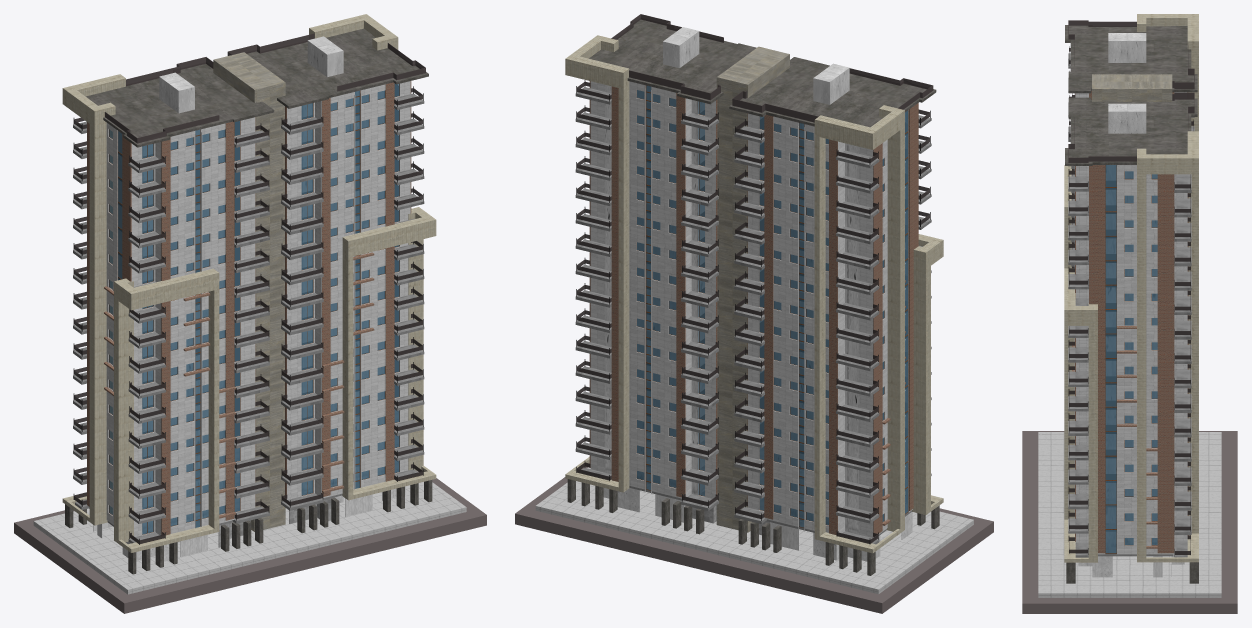
Rendered from building.glb.
3 views of the same model, side by side, from view 1: azimuth 30°, elevation 25°; view 2: azimuth 150°, elevation 25°; view 3: azimuth 270°, elevation 25° (orthographic). The views are drawn at different scales.
Parts seen in each view (by area): view 1: Line016_Material #14_0.002, Box588, Box605, Box334, Line016, Line016_Material #14_0.001, Line212, Line206, Line213, Line216, Line207, Box1228 (+10 smaller); view 2: Line016_Material #14_0.002, Box588, Line016, Line016_Material #14_0.001, Box334, Line207, Line216, Line206, Line213, Box605, Box1228, Line215 (+9 smaller); view 3: Line016_Material #14_0.002, Box605, Box588, Line213, Box334, Line016, Line212, Line207, Line206, Box620, Line215, Box1230 (+5 smaller).
Part boxes in pixels (left/top/right/bottom): Line016_Material #14_0.002: left=14, top=20, right=486, bottom=603; Box588: left=62, top=14, right=436, bottom=552; Box605: left=87, top=81, right=411, bottom=535; Box334: left=109, top=84, right=398, bottom=534; Line016: left=106, top=152, right=408, bottom=535; Line016_Material #14_0.001: left=106, top=81, right=410, bottom=536; Line212: left=73, top=93, right=424, bottom=543; Line206: left=74, top=88, right=422, bottom=543; Line213: left=86, top=52, right=428, bottom=147; Line216: left=119, top=91, right=383, bottom=531; Line207: left=73, top=121, right=417, bottom=542; Box1228: left=213, top=60, right=285, bottom=531; Line016_Material #14_0.002: left=515, top=14, right=993, bottom=613; Box588: left=565, top=35, right=943, bottom=551; Line016: left=590, top=186, right=908, bottom=533; Line016_Material #14_0.001: left=590, top=81, right=908, bottom=537; Box334: left=637, top=86, right=907, bottom=527; Line207: left=575, top=87, right=905, bottom=543; Line216: left=605, top=85, right=858, bottom=534; Line206: left=576, top=82, right=929, bottom=543; Line213: left=619, top=19, right=936, bottom=127; Box605: left=589, top=81, right=918, bottom=533; Box1228: left=716, top=46, right=789, bottom=532; Line215: left=611, top=14, right=932, bottom=122; Line016_Material #14_0.002: left=1022, top=18, right=1237, bottom=613; Box605: left=1075, top=92, right=1188, bottom=553; Box588: left=1064, top=14, right=1198, bottom=562; Line213: left=1065, top=25, right=1197, bottom=165; Box334: left=1106, top=165, right=1157, bottom=552; Line016: left=1076, top=216, right=1187, bottom=554; Line212: left=1068, top=53, right=1191, bottom=557; Line207: left=1071, top=126, right=1194, bottom=556; Line206: left=1069, top=48, right=1193, bottom=554; Box620: left=1108, top=33, right=1146, bottom=133; Line215: left=1068, top=20, right=1194, bottom=162; Box1230: left=1022, top=605, right=1237, bottom=613.
Bounding box in the file's own units: 45.42 × 55.88 × 23.92.
Materials: 16 (10 with a texture image).
